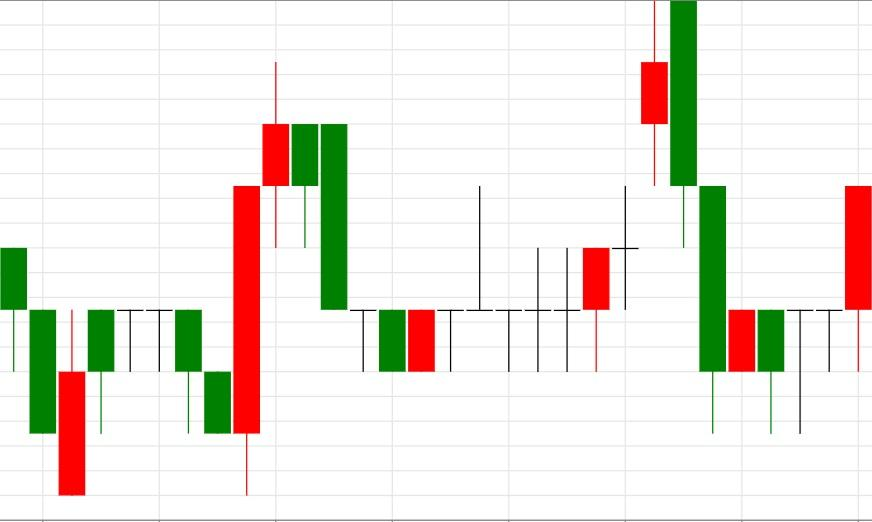bearish_engulfing_fall: (348, 0, 698, 373)
bullish_engulfing_rise: (116, 186, 261, 496)
